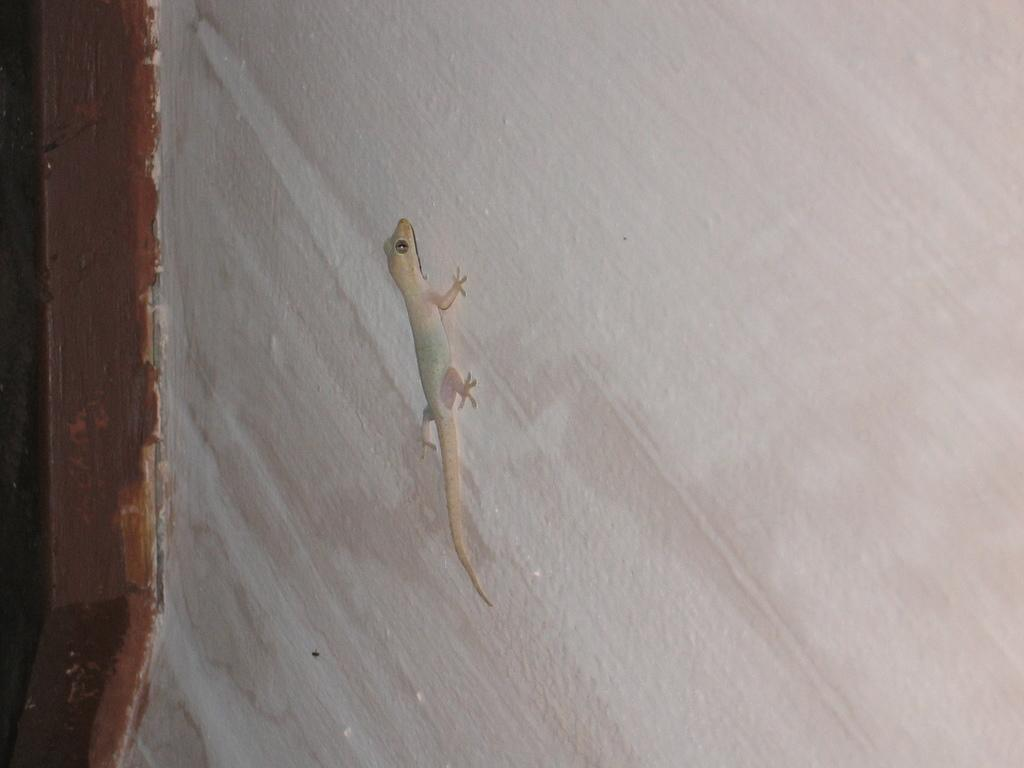lizard: (378, 217, 505, 614)
